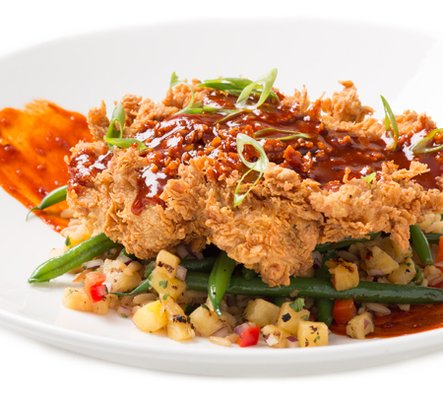pizza: (0, 99, 94, 210)
